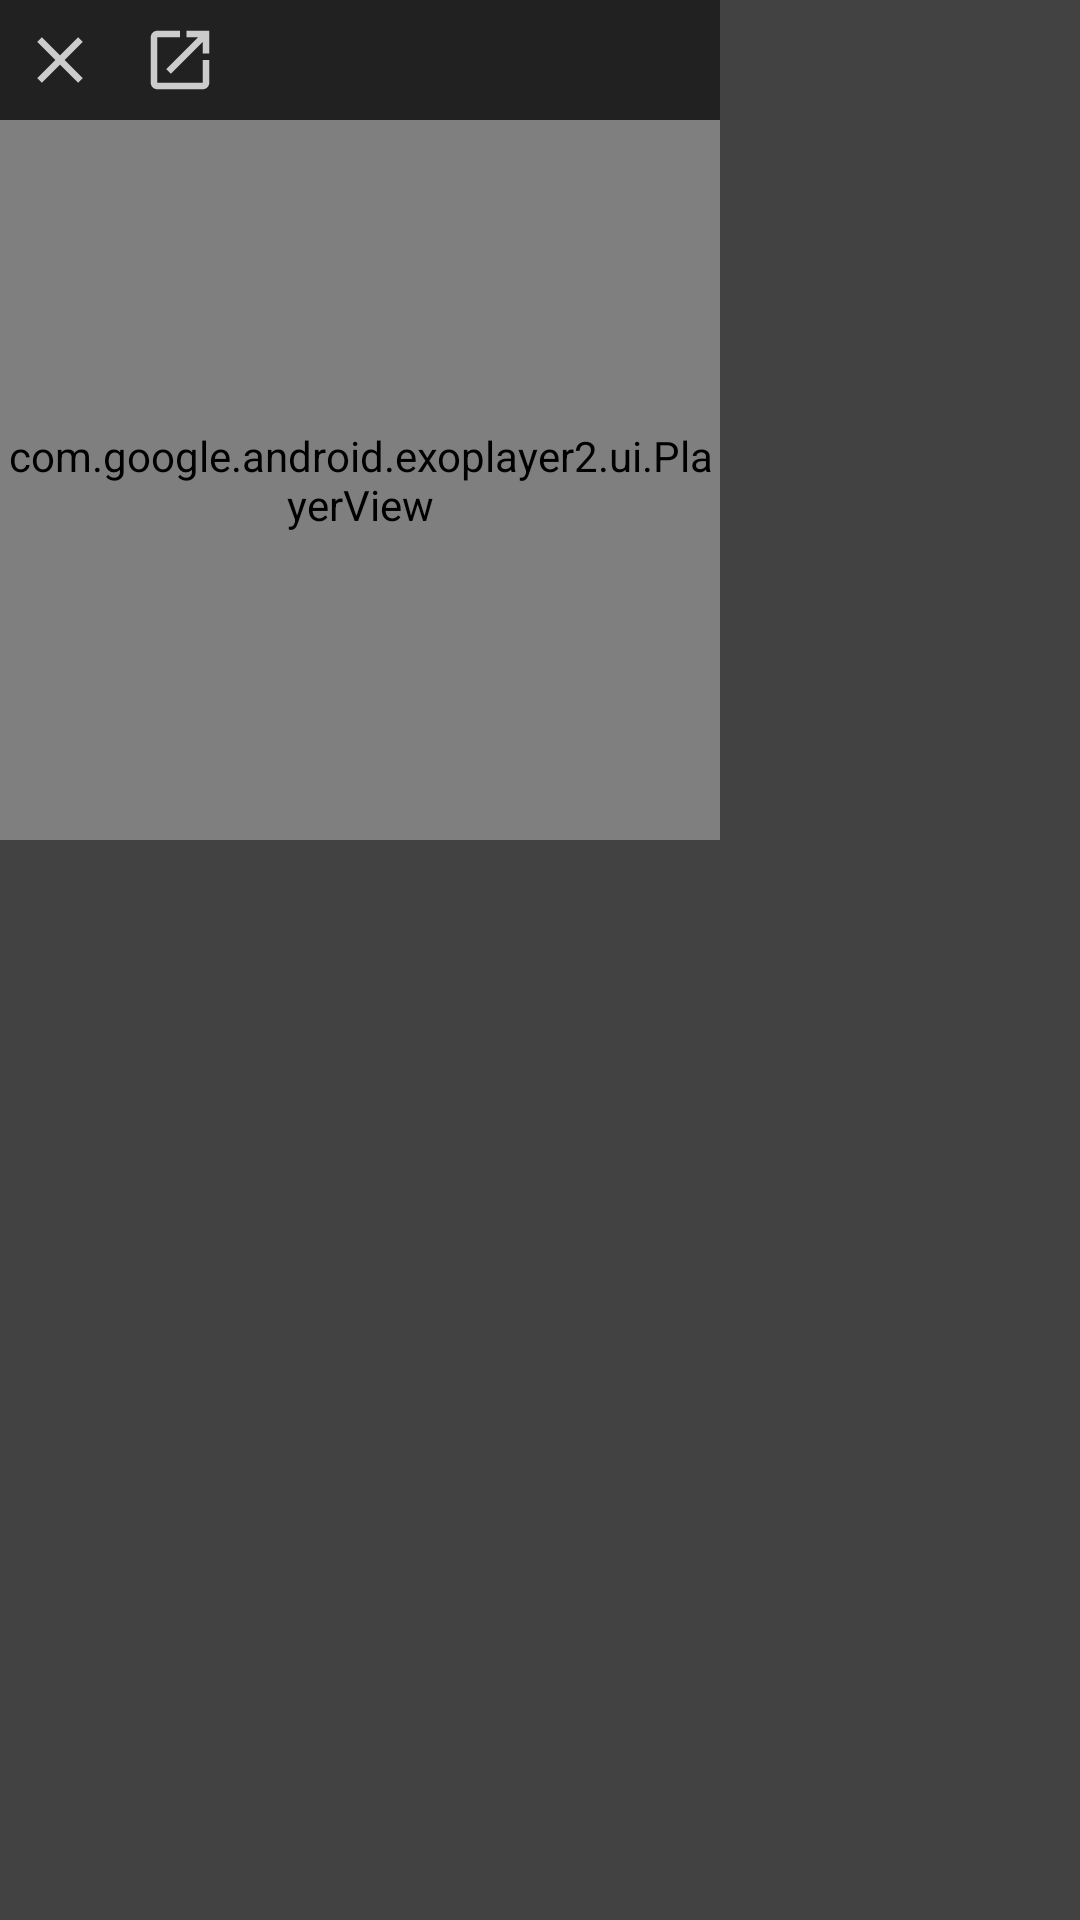

Screen size 1080 × 1920. Icon name, then its box in pixels as BBox(x1, y1, x2, y2):
close: BBox(37, 37, 83, 83)
open: BBox(150, 30, 210, 90)
